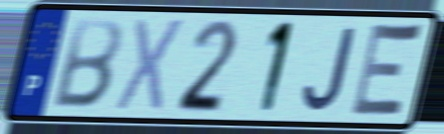1: (257, 18, 298, 119)
2: (176, 17, 242, 117)
B: (48, 16, 124, 112)
E: (346, 18, 427, 124)
J: (300, 25, 359, 115)
X: (111, 16, 189, 116)
